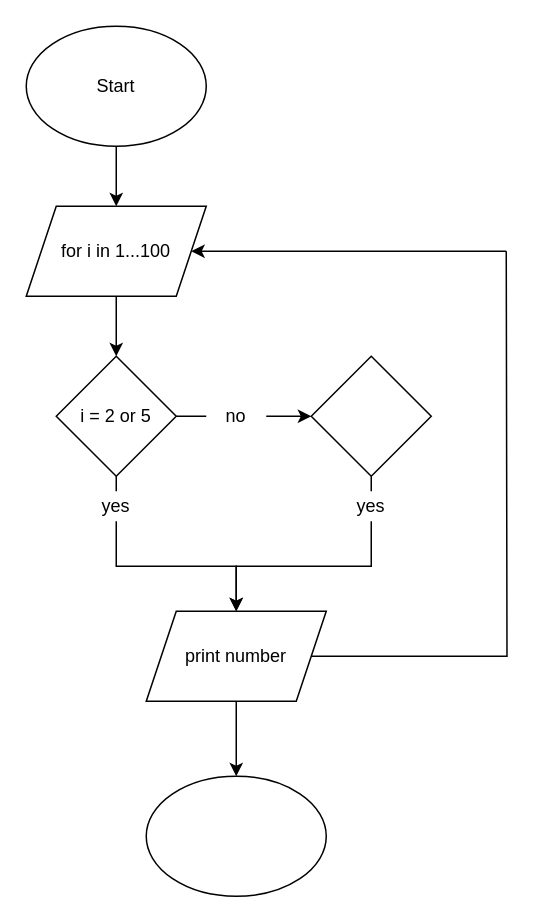
Image size: 545x923. Some labels were removed from this diagram. Each missing label, with the box of its shape:
End: (145, 775, 326, 896)
i not divisible 3. 5 or 7: (310, 355, 431, 476)
